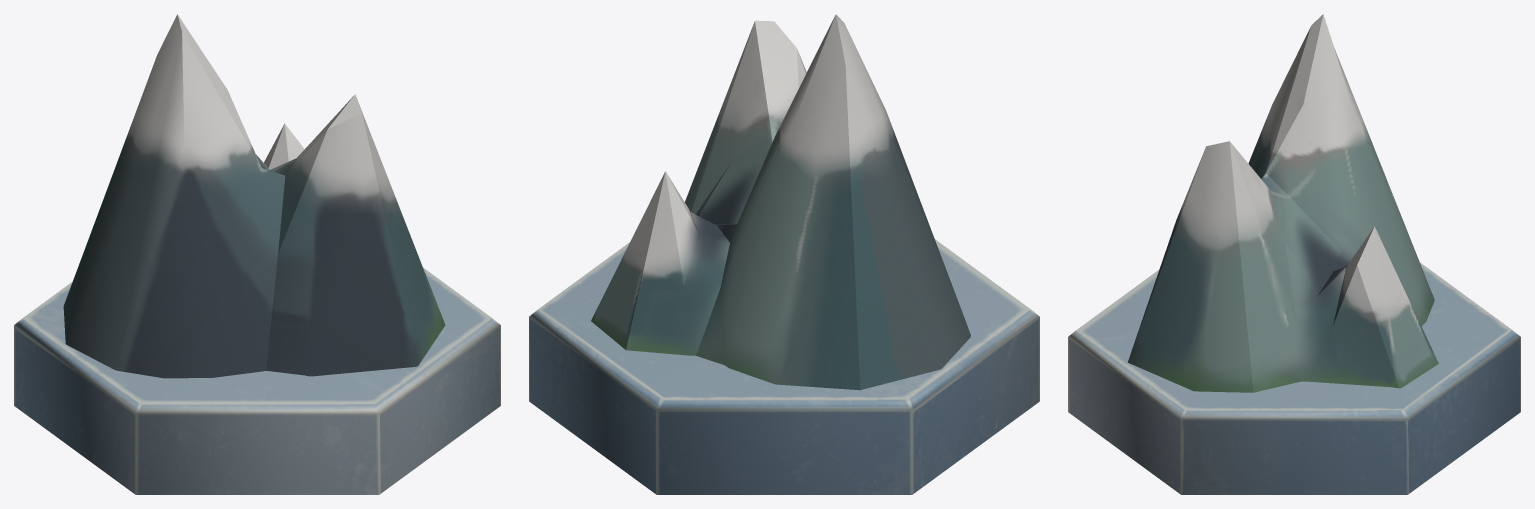
File: mountain.fbx
3 renders of one model, left to right at view 1: azimuth 30°, elevation 25°; view 2: azimuth 150°, elevation 25°; view 3: azimuth 270°, elevation 25°, orthographic. The views are drawn at different scales.
Visible parts, largest first — view 1: Mountain; view 2: Mountain; view 3: Mountain.
Part boxes in pixels (<box>): Mountain: <box>14,14,500,494</box>; Mountain: <box>529,14,1039,494</box>; Mountain: <box>1068,14,1520,494</box>.
Size of the model in its own units: 83.34 by 86.46 by 96.24.
Materials: 2 (2 with a texture image).
